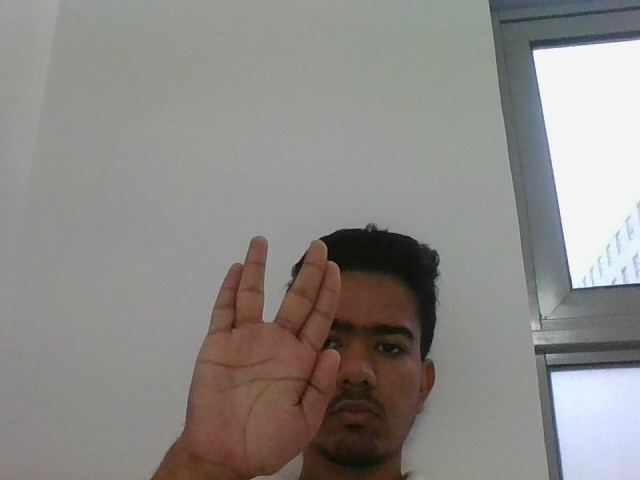livelong: (180, 232, 341, 472)
